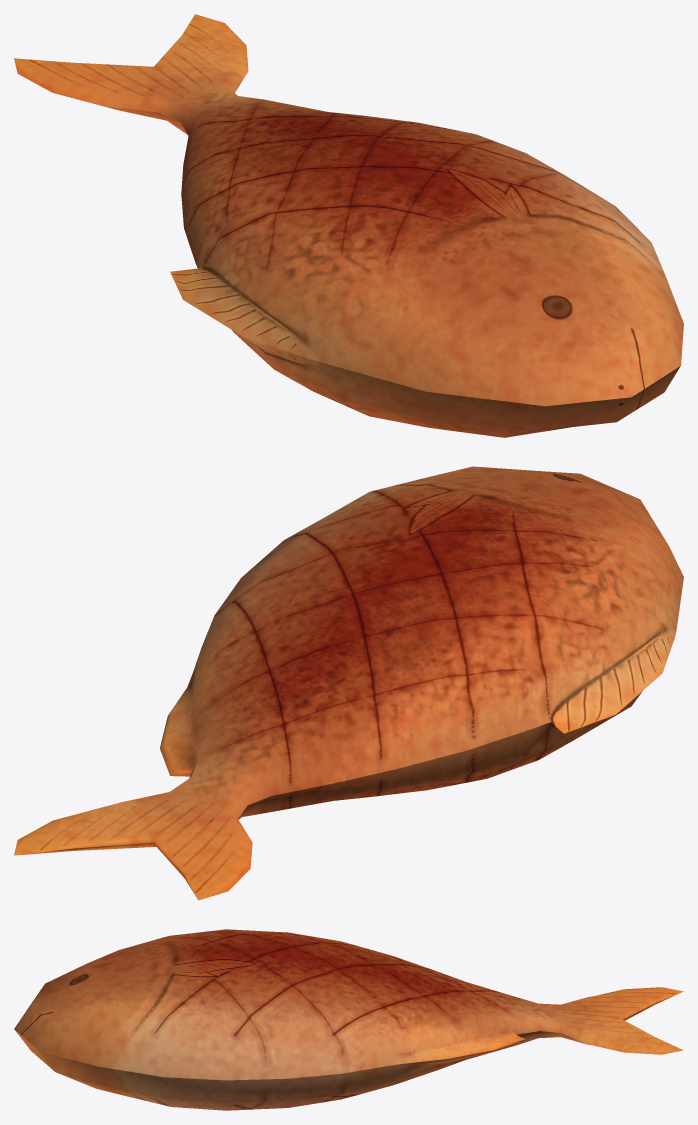
File: GrilledFish_1.fbx
The picture shows the model from 3 angles, top to bottom: view 1: azimuth 30°, elevation 25°; view 2: azimuth 150°, elevation 25°; view 3: azimuth 270°, elevation 25°; orthographic projection. The views are drawn at different scales.
Visible parts, largest first — view 1: GrilledFish_1; view 2: GrilledFish_1; view 3: GrilledFish_1.
Part boxes in pixels (<box>): GrilledFish_1: <box>14,14,683,437</box>; GrilledFish_1: <box>14,466,683,900</box>; GrilledFish_1: <box>14,929,683,1110</box>.
Size of the model in its own units: 83.75 by 41.18 by 185.
1 material, 1 textured.
